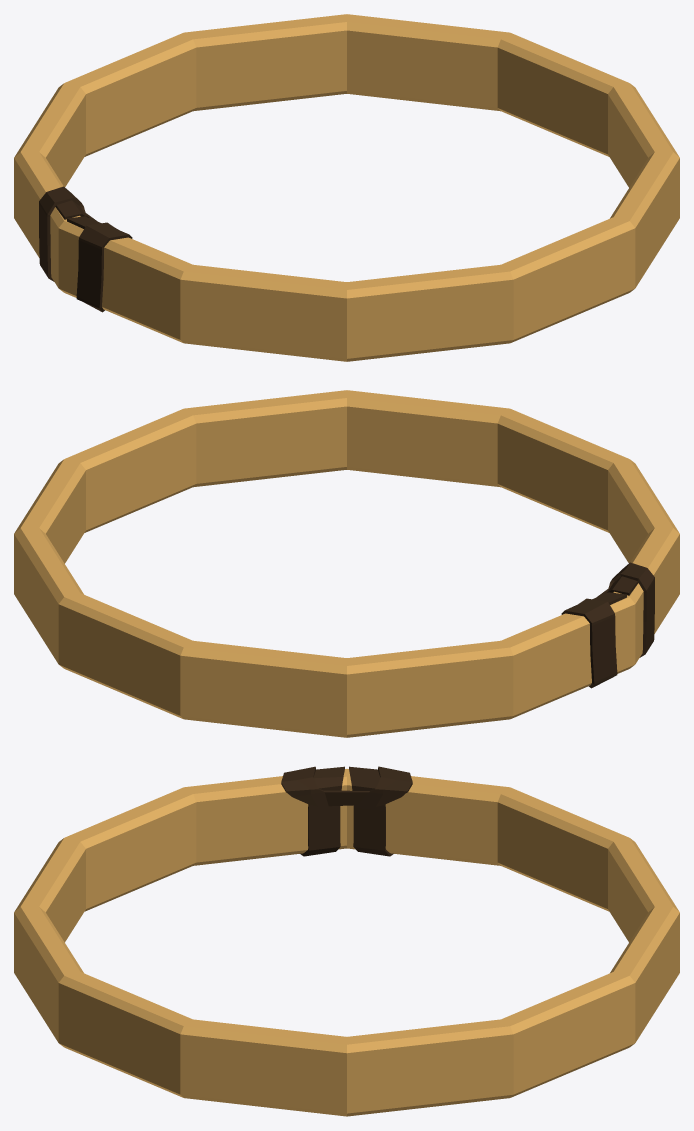
The model's file is Ring.fbx.
The picture shows the model from 3 angles, top to bottom: view 1: azimuth 30°, elevation 25°; view 2: azimuth 150°, elevation 25°; view 3: azimuth 270°, elevation 25°; orthographic projection.
Parts seen in each view (by area): view 1: Ring, BrokenRing; view 2: Ring, BrokenRing; view 3: Ring, BrokenRing.
Boxes of the visible parts, bbox=[...] form: Ring: bbox=[14, 14, 679, 358]; BrokenRing: bbox=[14, 59, 431, 361]; Ring: bbox=[14, 390, 679, 737]; BrokenRing: bbox=[206, 454, 678, 734]; Ring: bbox=[14, 769, 679, 1116]; BrokenRing: bbox=[66, 766, 655, 942].
Bounding box in the file's own units: 210 × 27.85 × 210.
